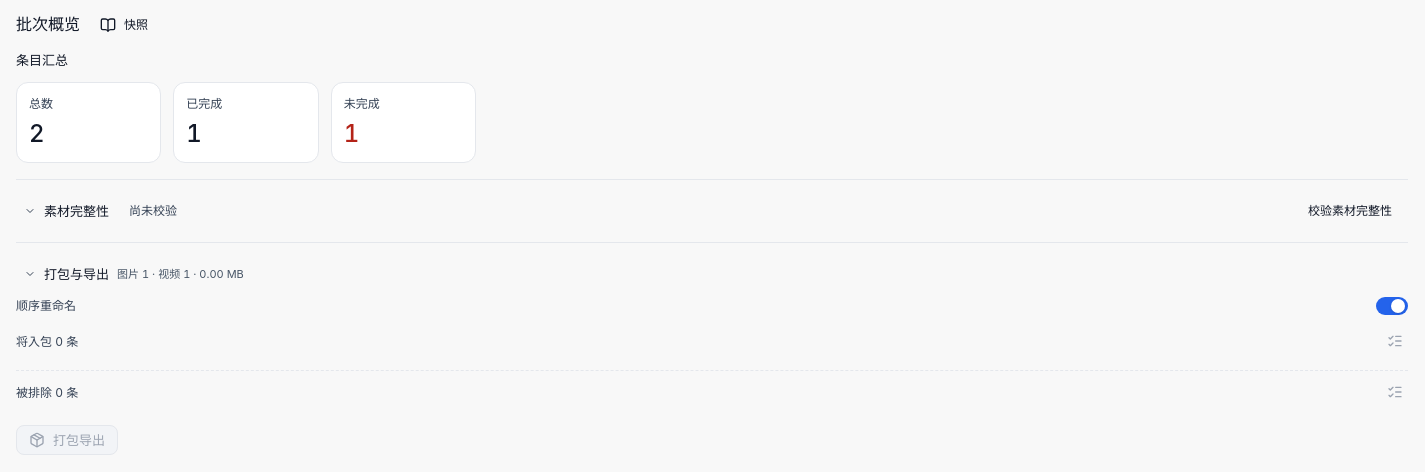
Test: 批次概览 › 缺少登记记录不能显示校验通过
Click the button "校验素材完整性". click: (1350, 211)
box: 1300,198 -> 1400,224
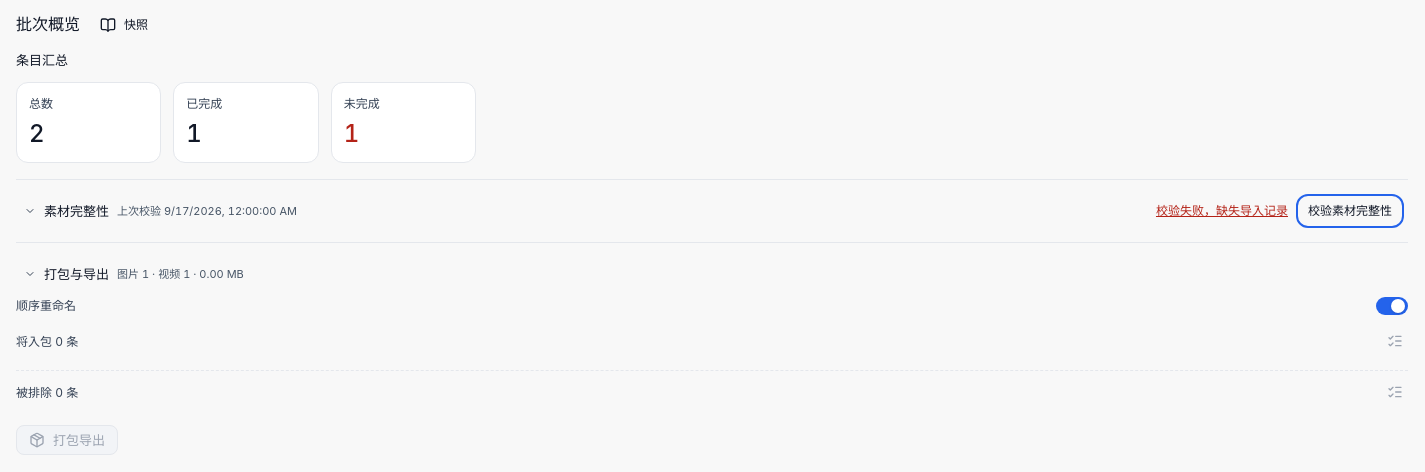
Now the button "校验失败，缺失导入记录" is shown, box 1156,202 -> 1288,220
